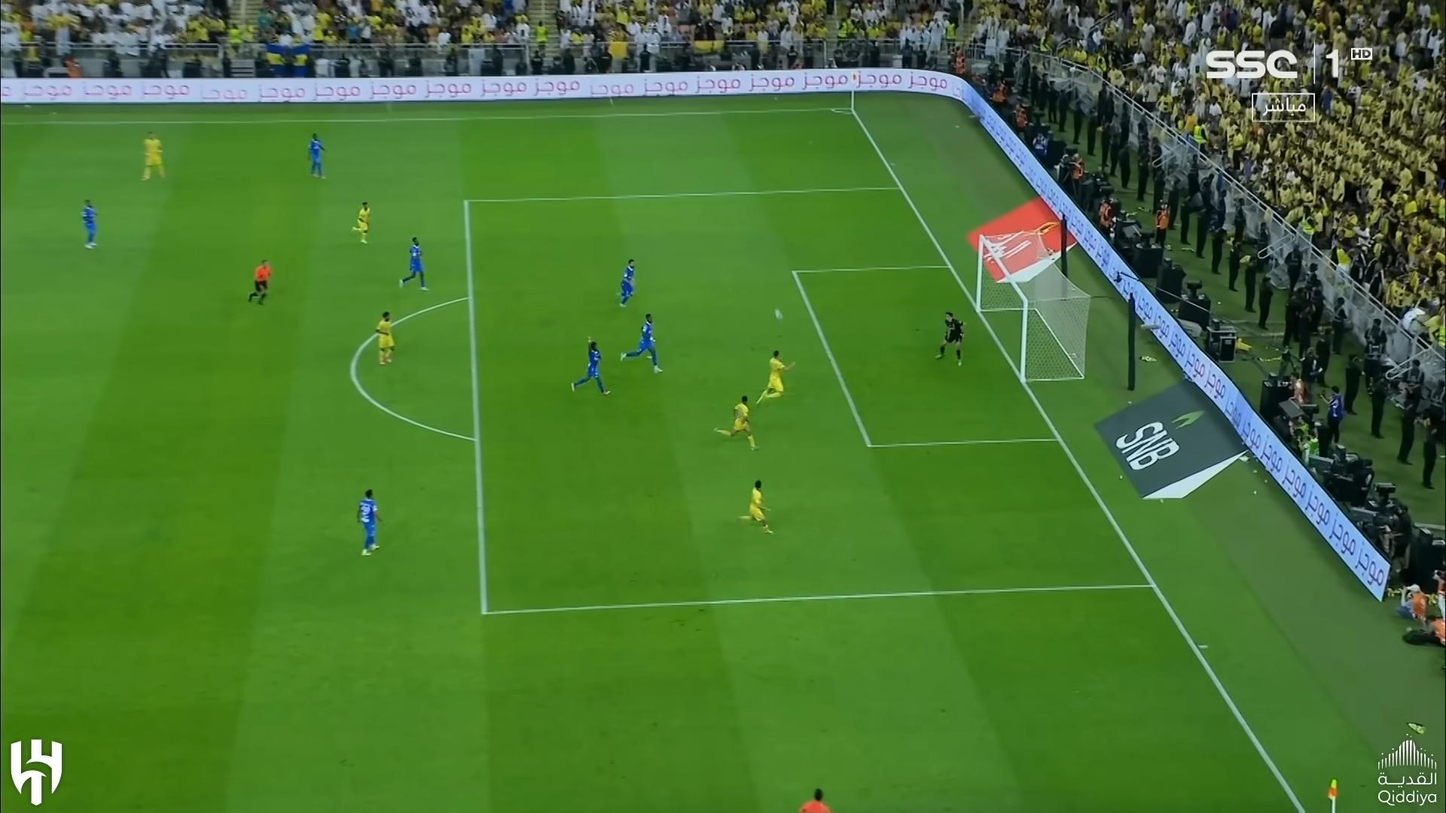Goalkeeper: (938, 313, 966, 363)
Player: (621, 313, 664, 375), (715, 395, 757, 447), (570, 339, 607, 395), (757, 350, 794, 402), (740, 480, 774, 534), (356, 488, 381, 555), (398, 237, 426, 289), (141, 133, 167, 181), (376, 311, 395, 363), (619, 260, 635, 308), (353, 200, 370, 243), (308, 133, 325, 176), (82, 200, 96, 247)
ball: (774, 311, 782, 322)
referee: (249, 260, 271, 305), (799, 788, 833, 813)
